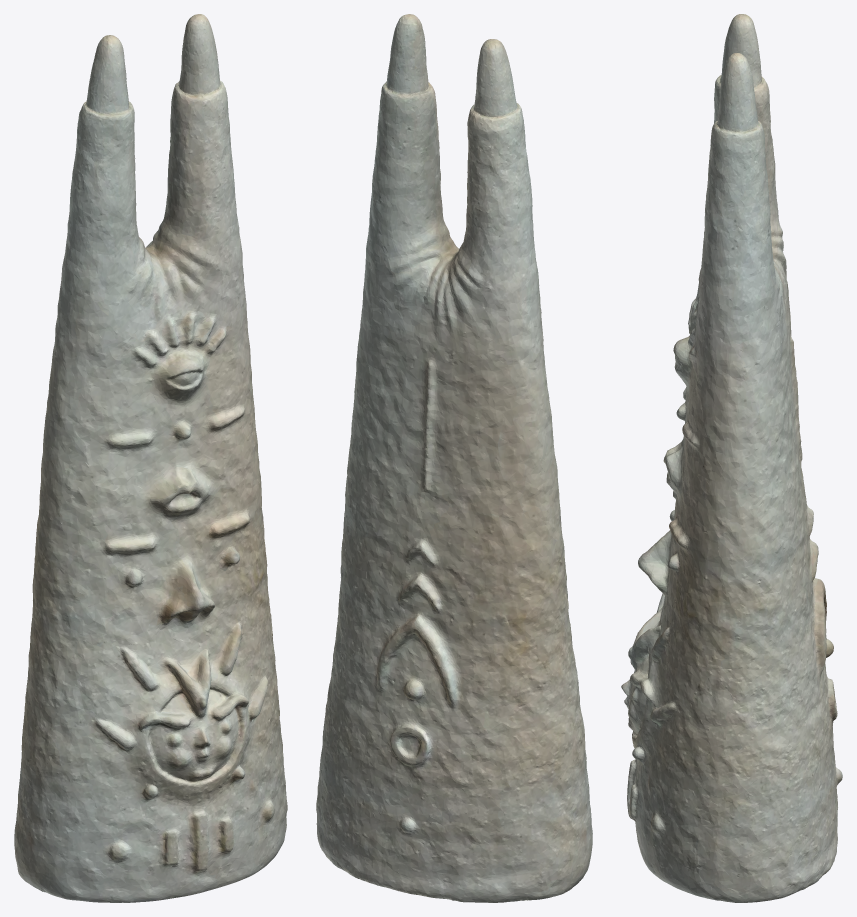
The model's file is personage.glb.
The picture shows the model from 3 angles, left to right: view 1: azimuth 30°, elevation 25°; view 2: azimuth 150°, elevation 25°; view 3: azimuth 270°, elevation 25°; orthographic projection. The views are drawn at different scales.
Bounding box in the file's own units: 0.4132 × 1.3 × 0.3199.
Materials: 1 (1 with a texture image).
